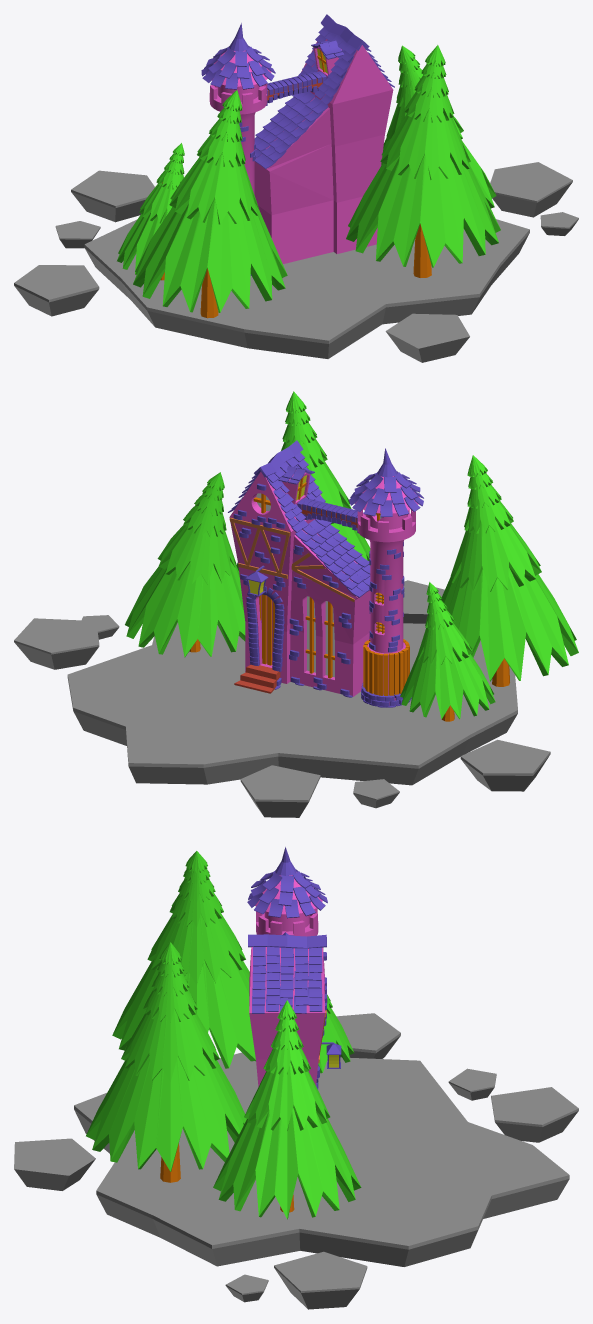
File: castle.dae
The picture shows the model from 3 angles, top to bottom: view 1: azimuth 30°, elevation 25°; view 2: azimuth 150°, elevation 25°; view 3: azimuth 270°, elevation 25°; orthographic projection. The views are drawn at different scales.
Parts seen in each view (by area): view 1: Plane.003, Circle.003, Circle.002, Cube, Cube.228, Circle.004, Circle, Circle.001, Cylinder.001, Plane.001, Cylinder.002; view 2: Plane.003, Circle.003, Cube, Circle.001, Cube.228, Circle.004, Circle, Circle.002, Cube.007, Cube.006, Cube.001, Plane.001; view 3: Plane.003, Circle.002, Circle.001, Circle.003, Cube.228, Cube, Circle, Circle.004, Plane.001.
Part boxes in pixels (<box>): Plane.003: <box>14,162,578,362</box>; Circle.003: <box>133,90,287,312</box>; Circle.002: <box>346,45,500,267</box>; Cube: <box>254,39,393,263</box>; Cube.228: <box>201,27,394,168</box>; Circle.004: <box>117,143,184,274</box>; Circle: <box>206,50,271,194</box>; Circle.001: <box>381,45,496,208</box>; Cylinder.001: <box>413,224,431,277</box>; Plane.001: <box>321,14,369,50</box>; Cylinder.002: <box>200,268,218,318</box>; Plane.003: <box>14,580,550,817</box>; Circle.003: <box>441,455,578,681</box>; Cube: <box>229,472,370,696</box>; Circle.001: <box>125,472,245,657</box>; Cube.228: <box>228,452,423,597</box>; Circle.004: <box>400,582,495,719</box>; Circle: <box>355,476,419,705</box>; Circle.002: <box>236,391,370,570</box>; Cube.007: <box>253,477,384,678</box>; Cube.006: <box>229,517,290,578</box>; Cube.001: <box>234,664,280,693</box>; Plane.001: <box>254,440,303,477</box>; Plane.003: <box>14,1013,578,1309</box>; Circle.002: <box>86,942,246,1171</box>; Circle.001: <box>213,1000,361,1219</box>; Circle.003: <box>112,851,255,1068</box>; Cube.228: <box>247,869,327,1013</box>; Cube: <box>249,947,325,1086</box>; Circle: <box>255,872,322,936</box>; Circle.004: <box>255,994,354,1073</box>; Plane.001: <box>248,934,326,948</box>.
Bounding box in the file's own units: 25.93 × 22.31 × 12.7.
